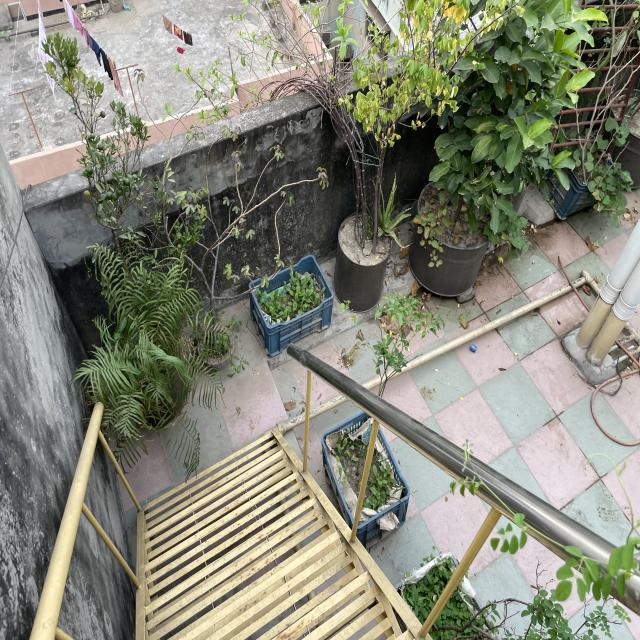Breeding Place: (318, 413, 407, 533), (422, 187, 492, 294), (254, 256, 333, 345), (338, 212, 391, 309)
